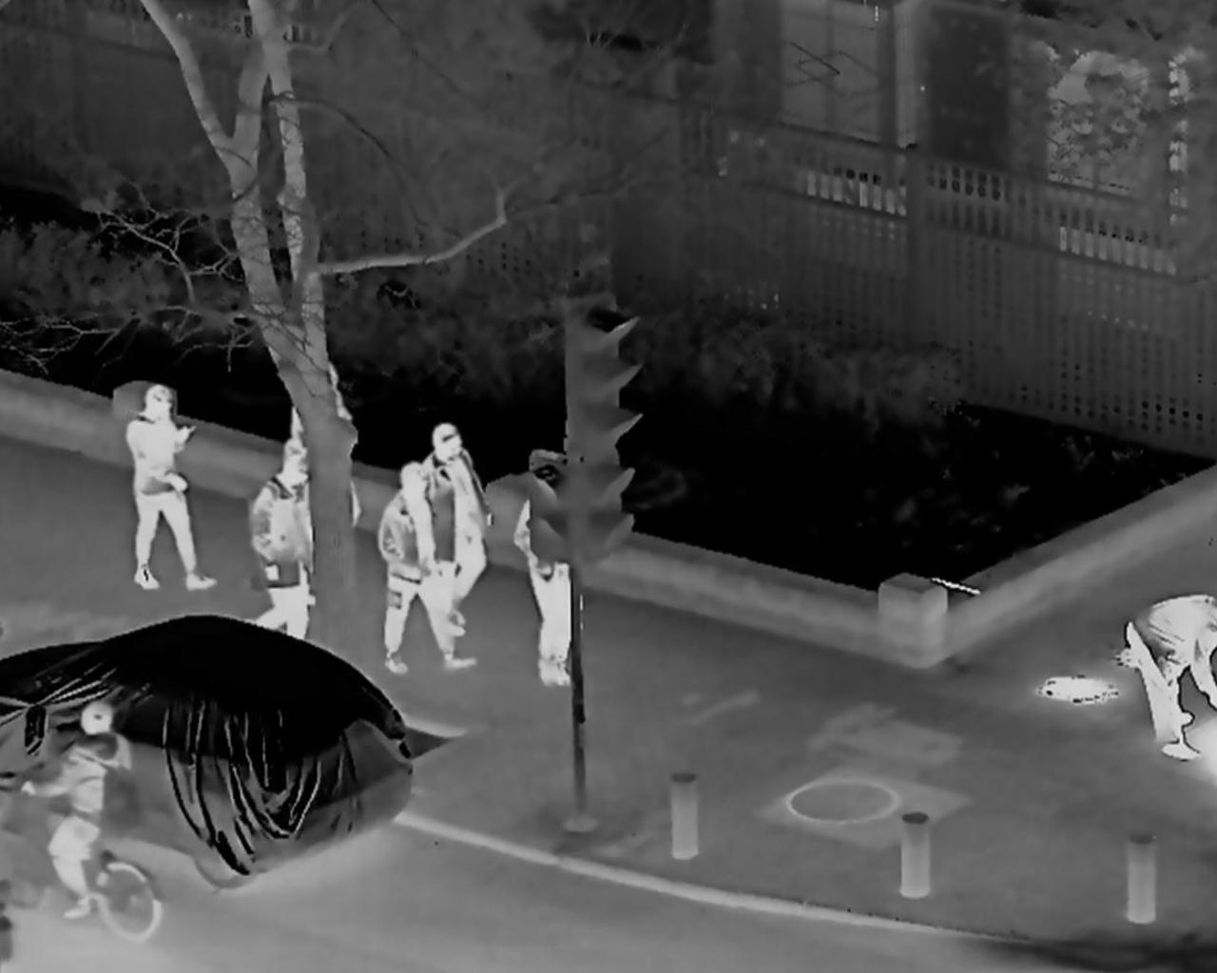person: (24, 705, 133, 914), (375, 464, 474, 673), (400, 421, 499, 622), (126, 386, 217, 594), (510, 475, 596, 693), (1125, 587, 1217, 761), (245, 445, 316, 646)
